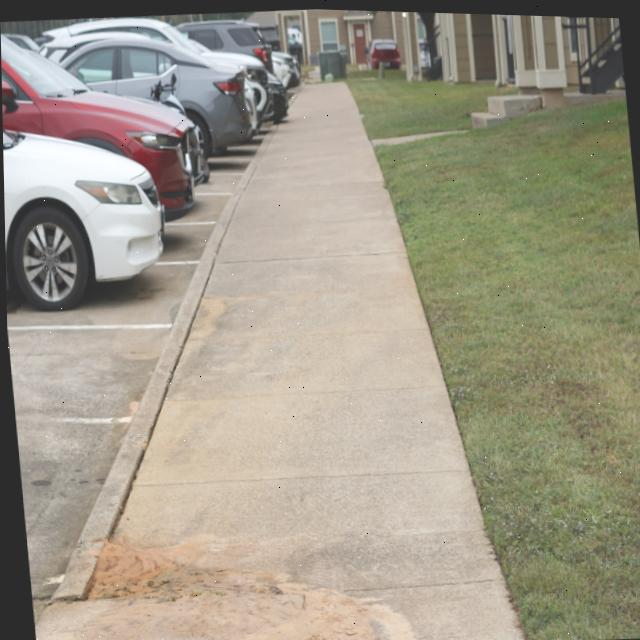Automobile: (1, 17, 299, 310), (366, 36, 400, 65)
Road: (5, 144, 254, 625)
Sidewalk: (32, 80, 520, 640)
